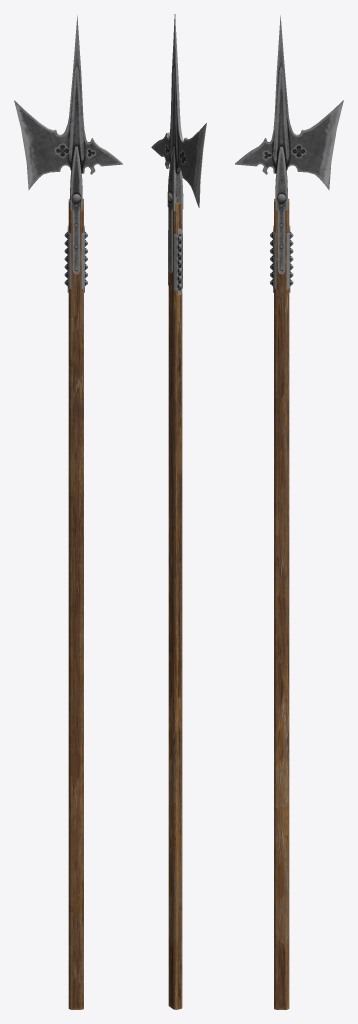
File: Halberd_02.fbx
3 views of the same model, side by side, from view 1: azimuth 90°, elevation 25°; view 2: azimuth 210°, elevation 25°; view 3: azimuth 270°, elevation 25° (orthographic).
Parts seen in each view (by area): view 1: Halberd_02_LOD0; view 2: Halberd_02_LOD0; view 3: Halberd_02_LOD0.
Boxes of the visible parts, x1,y1,x2,y2 form: Halberd_02_LOD0: [14, 15, 122, 1009]; Halberd_02_LOD0: [151, 14, 206, 1009]; Halberd_02_LOD0: [235, 15, 343, 1009].
Size of what is drawn, in the model's own units: 3.17 by 212 by 21.1.
